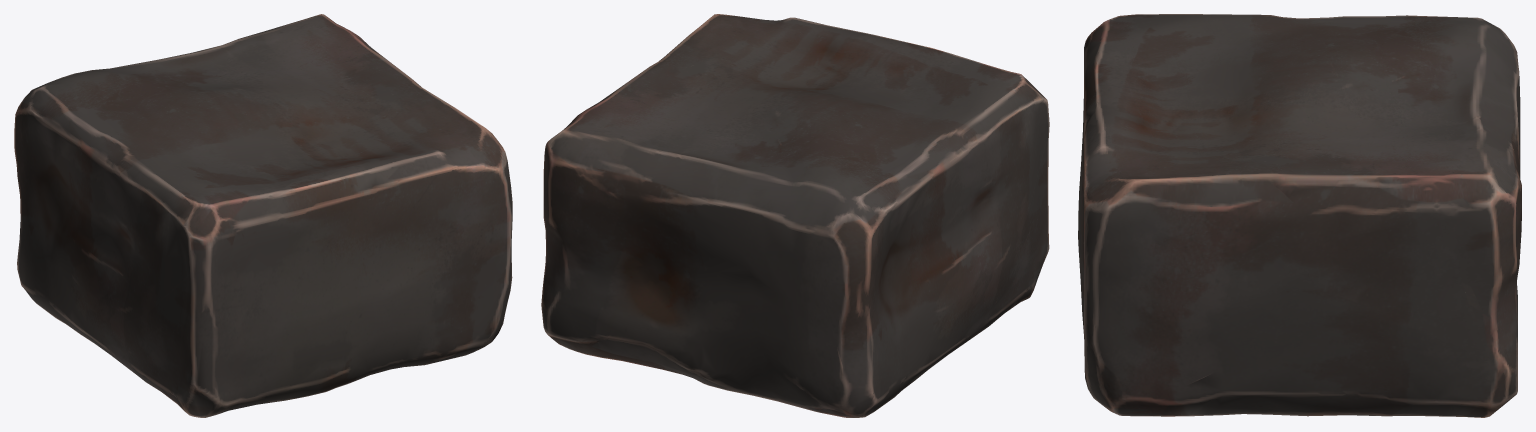
File: floor2.glb
3 renders of one model, left to right at view 1: azimuth 30°, elevation 25°; view 2: azimuth 150°, elevation 25°; view 3: azimuth 270°, elevation 25°, orthographic. The views are drawn at different scales.
Parts seen in each view (by area): view 1: Object_4; view 2: Object_4; view 3: Object_4.
Part boxes in pixels (x1,y1,x2,y2): Object_4: [14, 14, 512, 417]; Object_4: [541, 14, 1049, 417]; Object_4: [1078, 14, 1521, 417].
Size of the model in its own units: 1 by 0.6282 by 1.
Materials: 1 (1 with a texture image).
